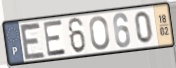0: (134, 10, 155, 46)
6: (67, 16, 88, 55), (112, 12, 132, 49)
E: (18, 22, 47, 61), (42, 19, 68, 58)
O: (88, 14, 111, 51)
